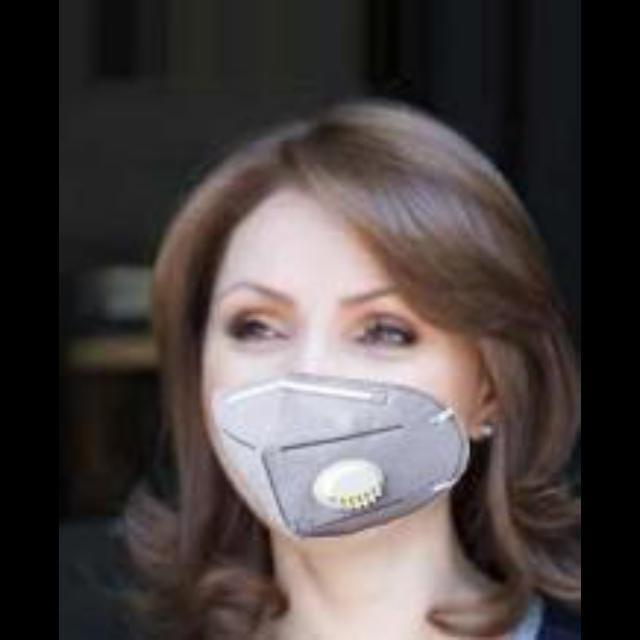1_mascarilla: (205, 366, 472, 548)
